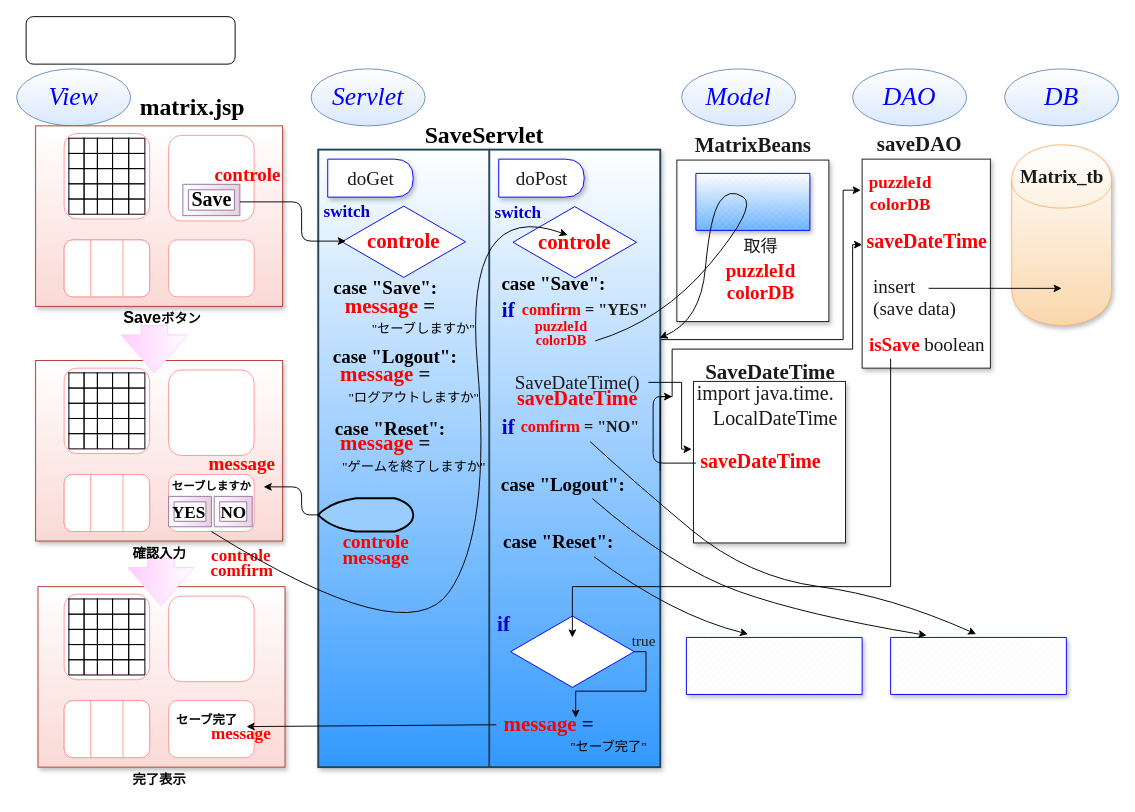
Some shapes in this 1135 by 812 pixel diagram are drawn without their labels. The centre of each missing label's shape, as x and y in pixels:
"Beans" goes at point 753,203.
"ColorServlet へ" goes at point 775,667.
"forward" goes at point 365,514.
"isSave" goes at point 572,651.
"LogoutServlet へ" goes at point 979,667.
"save 機能" goes at point 130,40.
